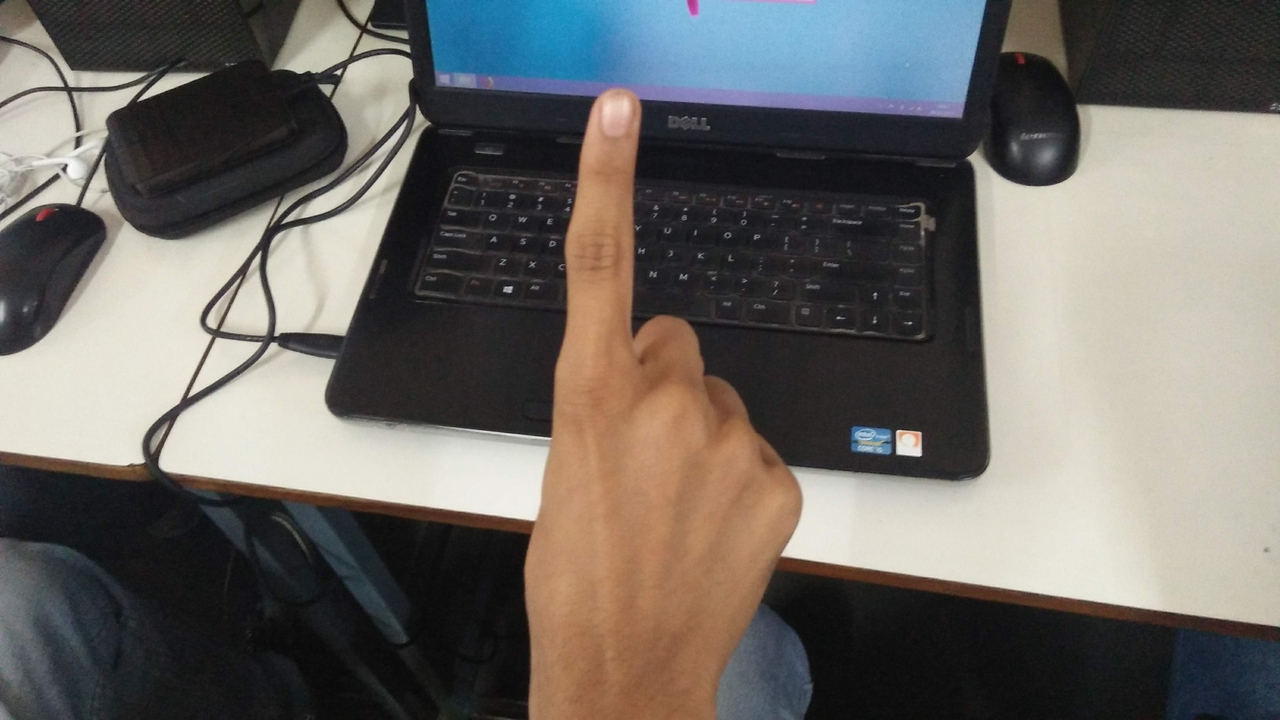fingertip: (578, 80, 646, 140)
